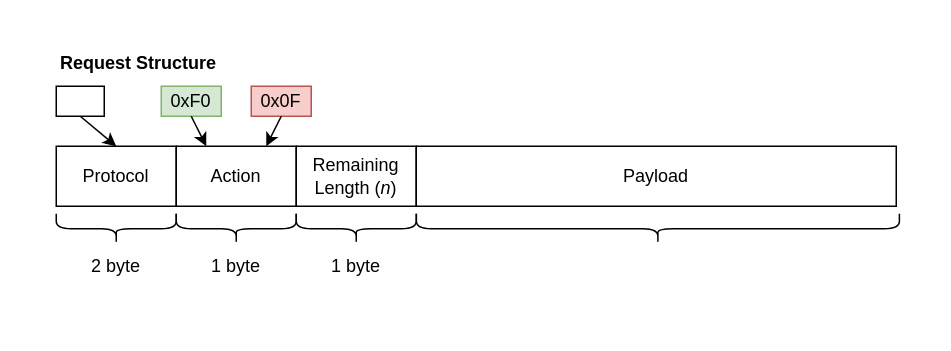
Some shapes in this 951 by 351 pixel diagram are drawn without their labels. The shapes that lost their labels are listed below. From the top down, each one's centre as x and y in pixels, then its label:
At [79,100]: "LB".
At [657,228]: "n byte".
